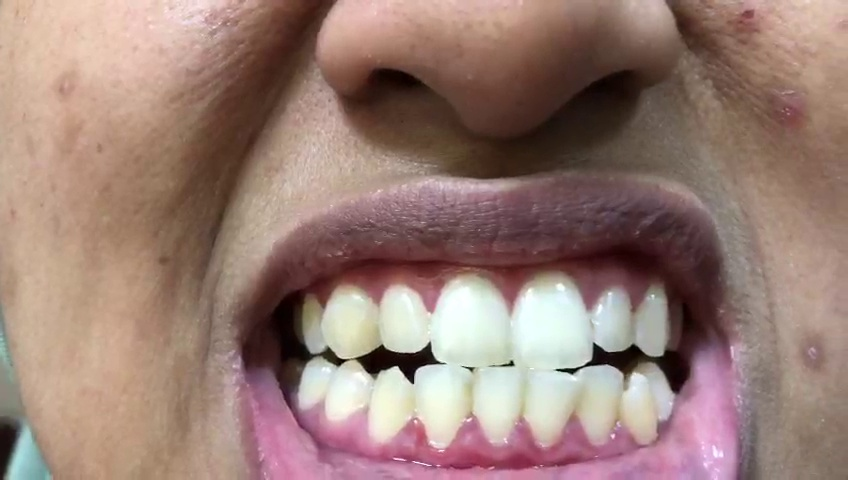1st Premolar: (326, 361, 370, 422), (636, 359, 676, 422), (299, 291, 324, 353)
2nd Premolar: (293, 357, 333, 409)
Canine: (322, 280, 381, 360), (367, 366, 414, 450), (622, 371, 661, 447), (632, 277, 667, 354)
Central Incisor: (512, 271, 592, 368), (432, 274, 510, 366), (524, 367, 577, 450), (472, 365, 523, 448)
Lateral Incisor: (416, 361, 475, 455), (575, 361, 623, 450), (378, 279, 430, 354), (591, 282, 633, 351)
